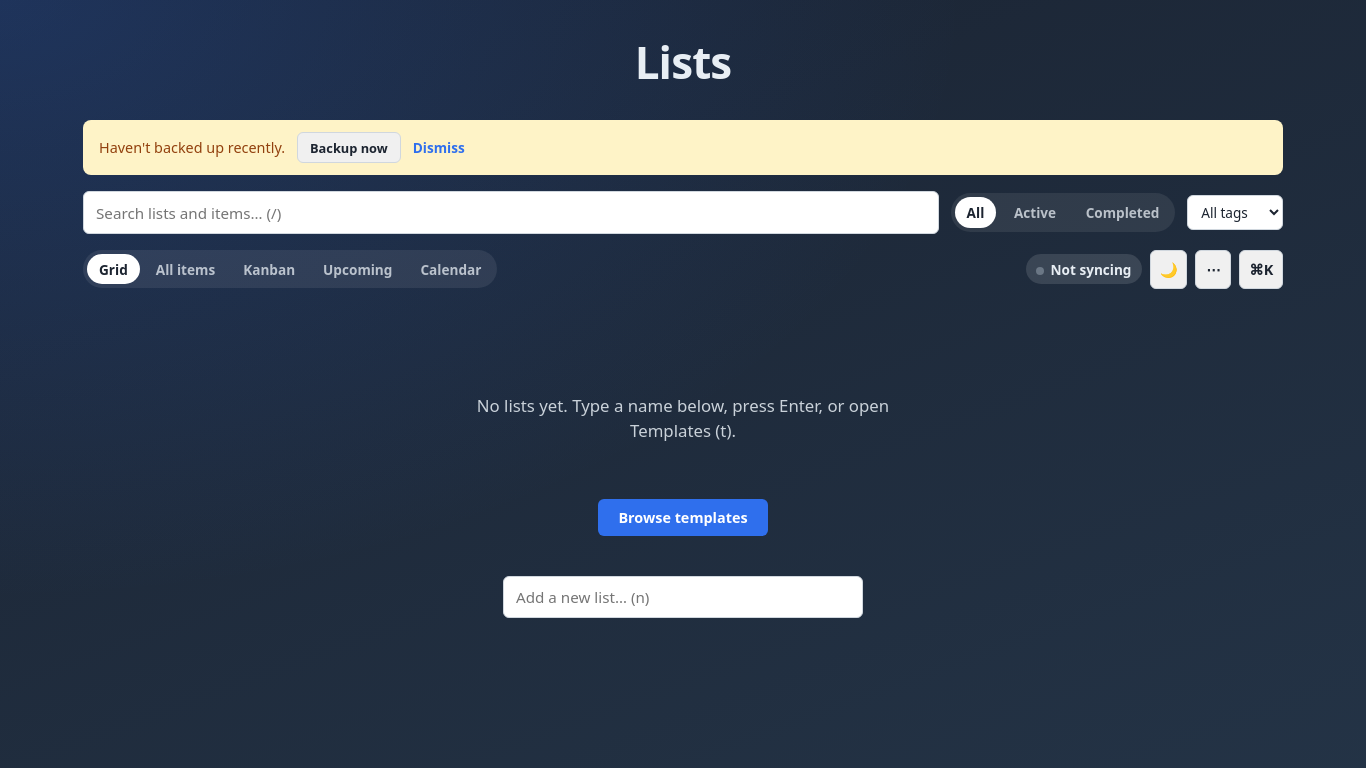
Test: shows empty state and creates a list
Expected: the text "No lists yet" is shown, [477,394,889,442]
Type "Groceries" into the field labelled "Add a new list… (n)" at (683, 597), box [503,576,863,618]
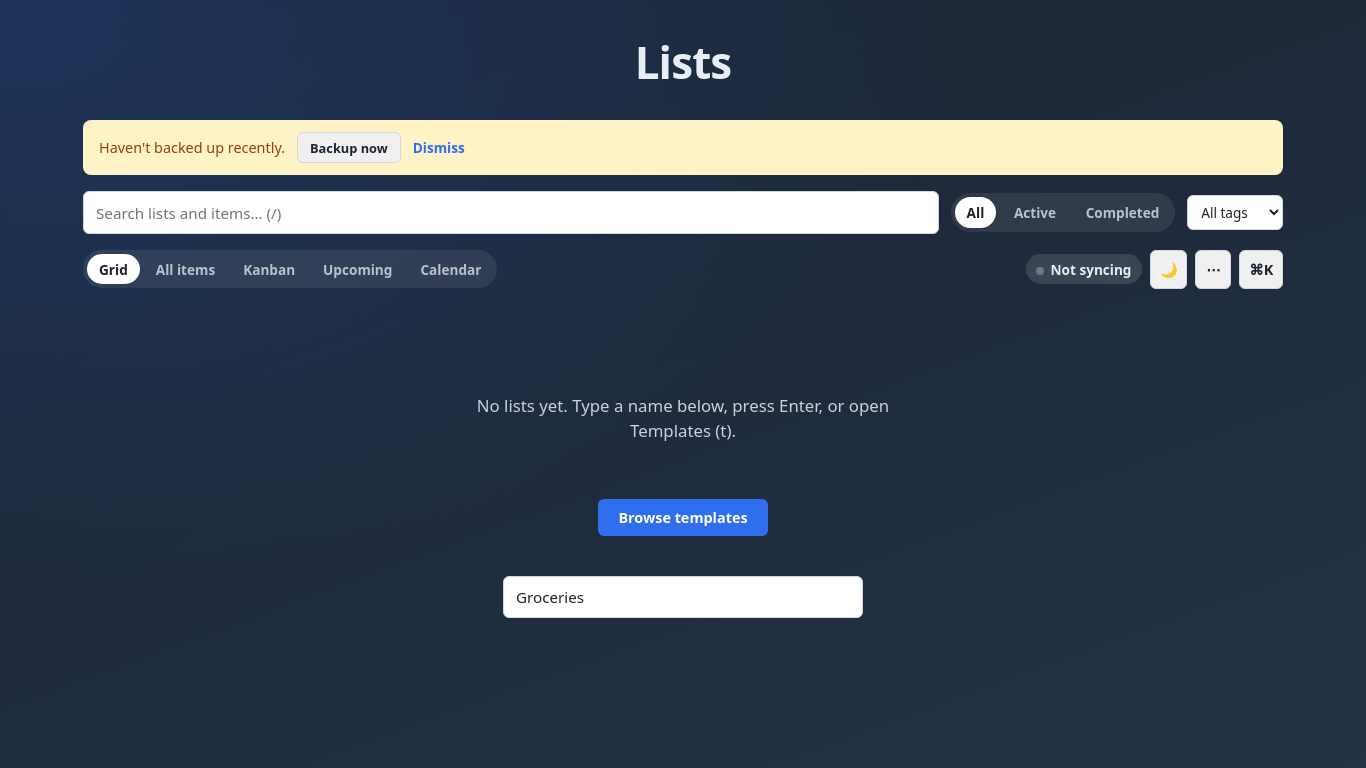
Press Enter in the field named "Add a new list", box [503,576,863,618]
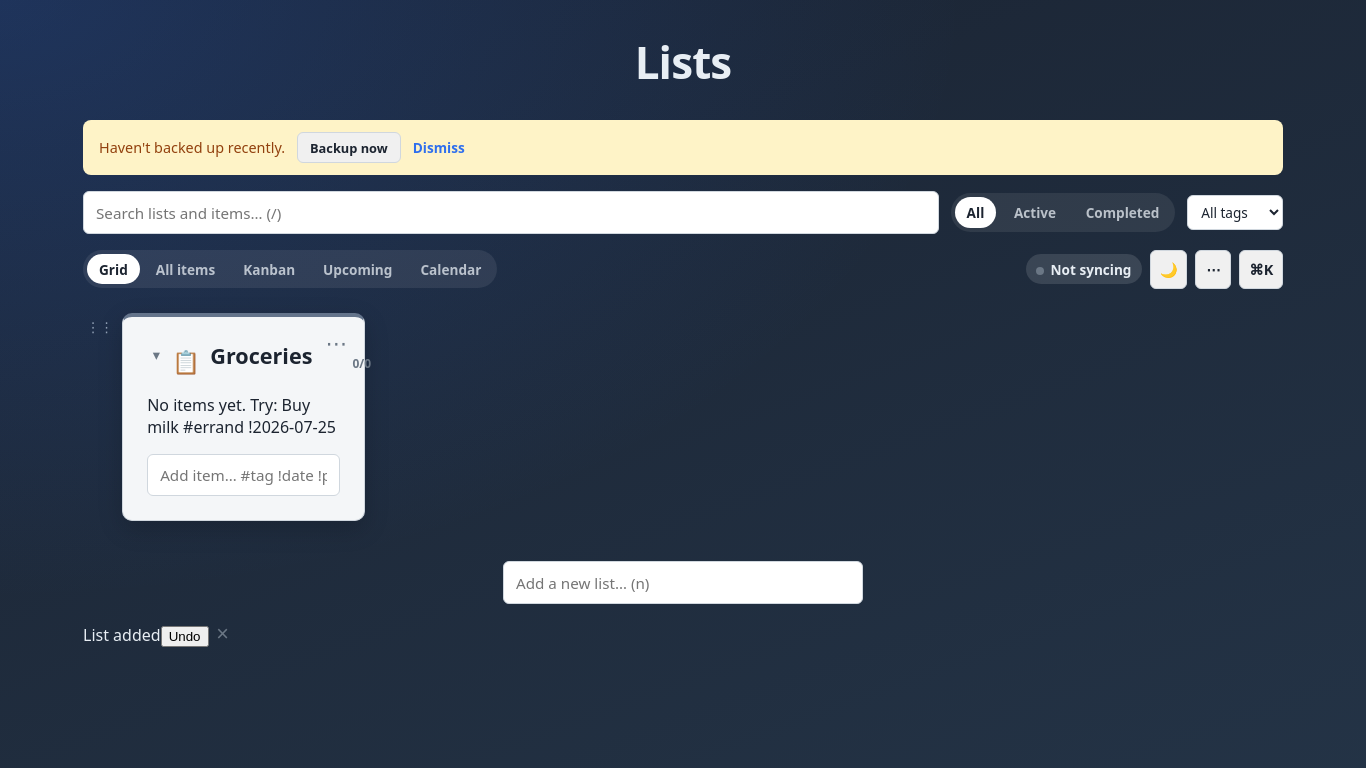
Now the button "Groceries" is shown, box [210,341,312,370]
Now the text "No lists yet" is gone
